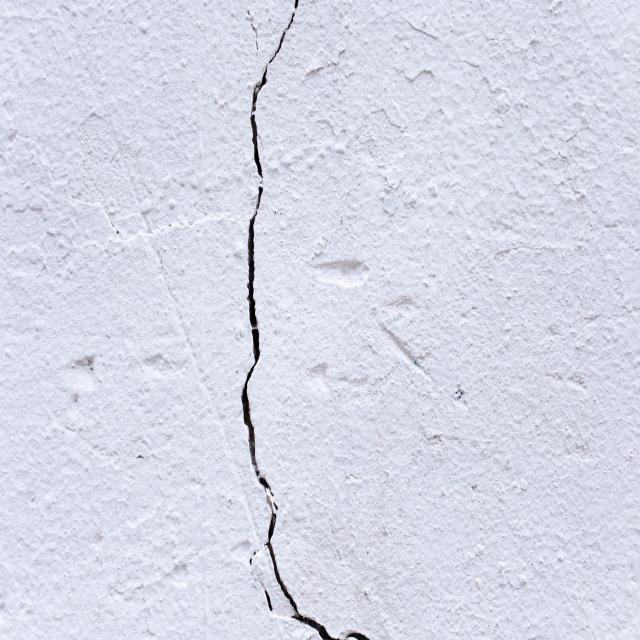Rachadura: (234, 0, 378, 640)
